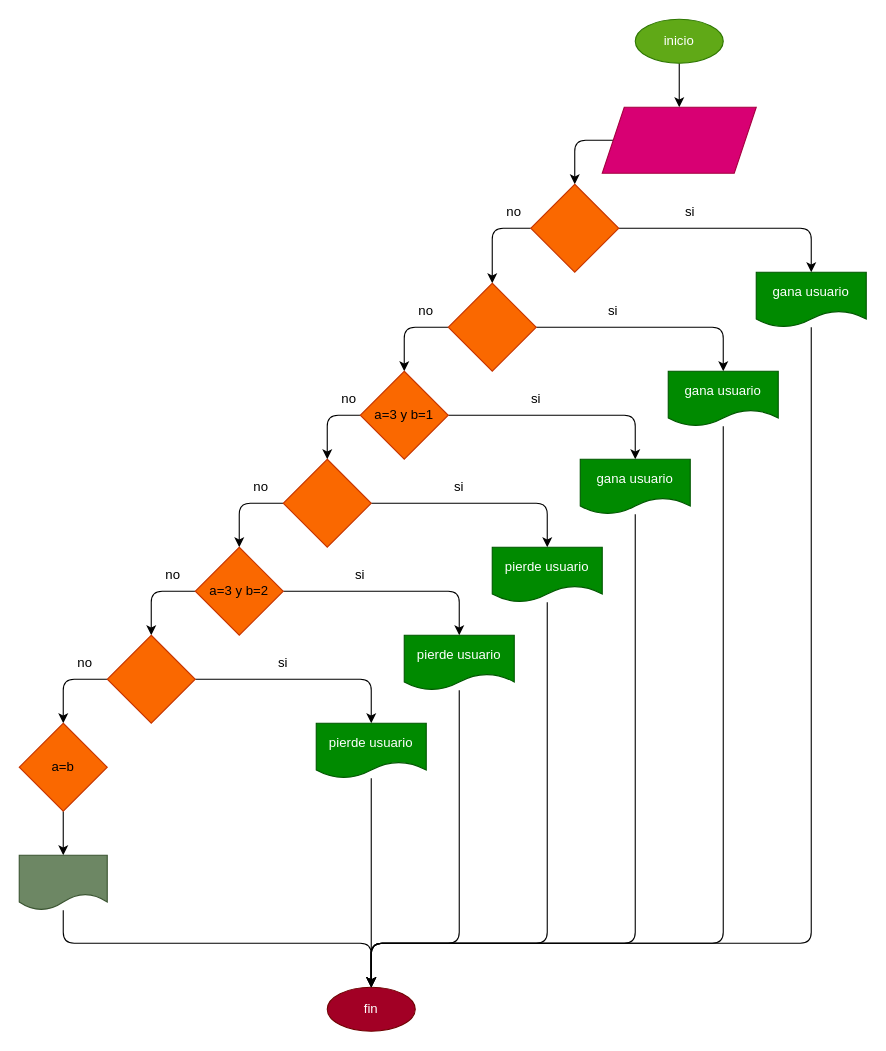
Image size: 886x1051. Some labels were removed from this diagram. The shapes that lost their labels are listed below. From the top down, each one's centre as x and y in pixels, then its label:
the point at 678,139: Piedra, Papel o Tijera
the point at 574,227: a=1 y b=2
the point at 491,326: a=2 y b=3
the point at 326,502: a=2 y b=1
the point at 150,678: a=1 y b=3
the point at 62,882: empate
